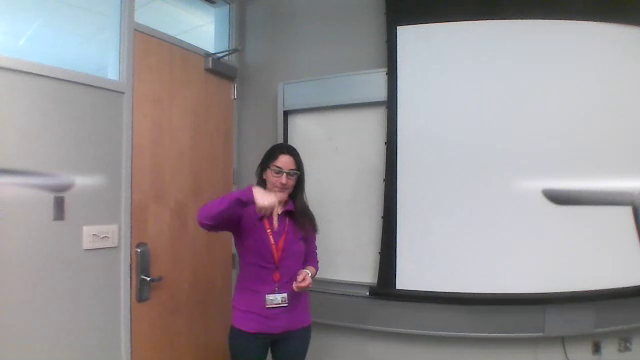down: (252, 183, 281, 233)
